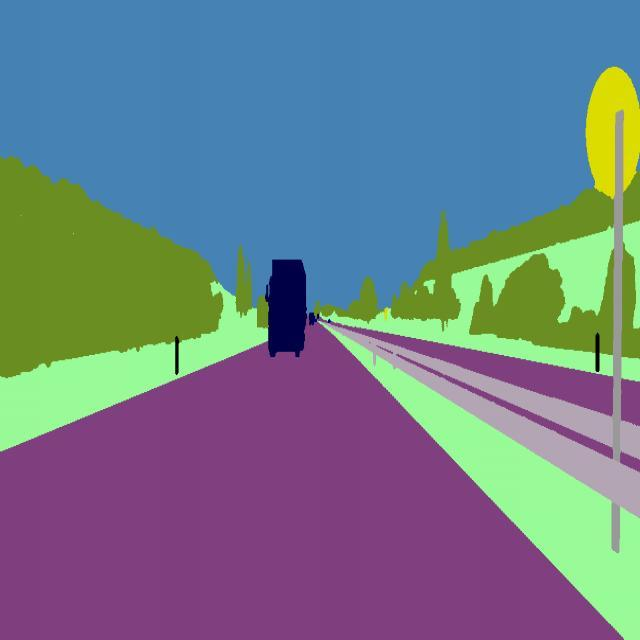safe: (265, 255, 311, 365), (304, 312, 320, 329)
